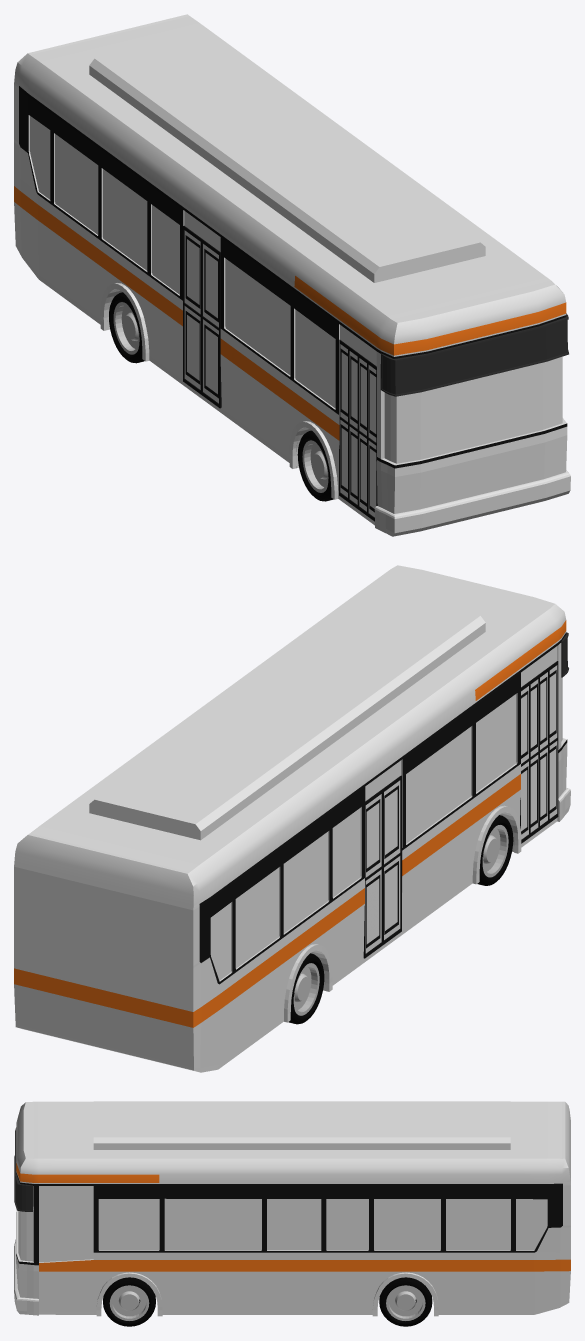
File: bus.fbx
The picture shows the model from 3 angles, top to bottom: view 1: azimuth 30°, elevation 25°; view 2: azimuth 150°, elevation 25°; view 3: azimuth 270°, elevation 25°; orthographic projection. The views are drawn at different scales.
Parts seen in each view (by area): view 1: Cube.002, Cube.003, Cube.001, Cube.004; view 2: Cube.002, Cube.003, Cube.004, Cube.001; view 3: Cube.002.
Part boxes in pixels (x1=…): Cube.002: x1=14, y1=14, x2=570, y2=536; Cube.003: x1=183, y1=211, x2=221, y2=408; Cube.001: x1=339, y1=325, x2=358, y2=508; Cube.004: x1=358, y1=338, x2=377, y2=521; Cube.002: x1=14, y1=565, x2=570, y2=1072; Cube.003: x1=363, y1=760, x2=401, y2=958; Cube.004: x1=539, y1=646, x2=558, y2=829; Cube.001: x1=520, y1=659, x2=539, y2=843; Cube.002: x1=14, y1=1101, x2=570, y2=1326.
Size of the model in its own units: 621 by 759 by 2174.
